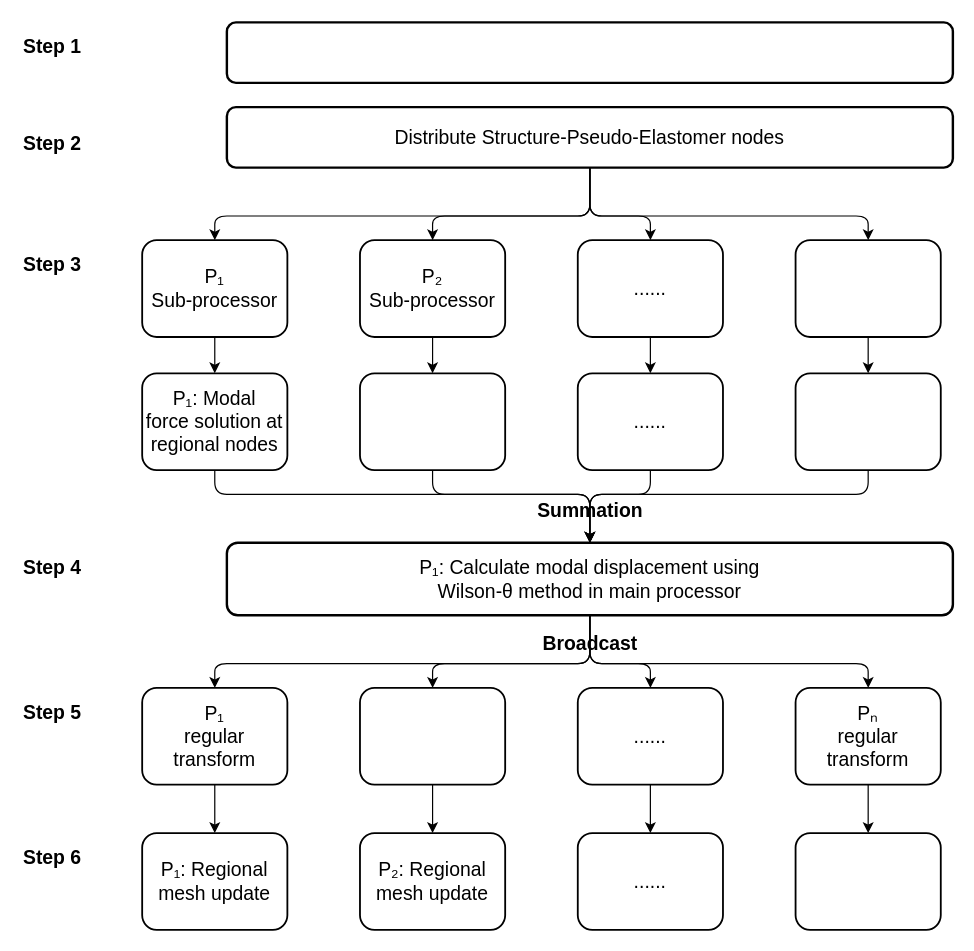
The diagram is 974 pixels wide and 951 high, and some of its shapes have lost their labels. The shapes that lost their labels are listed below. From the top down, each one's box as (x1, y1, x2, y2) in pixels, then its label:
(225, 21, 953, 83): Get frequency and modal shape vector
(794, 239, 941, 337): Pₙ Sub-processor
(359, 372, 506, 470): P₂: Modal force solution at regional nodes
(794, 372, 941, 470): Pₙ: Modal force solution at regional nodes
(359, 686, 506, 785): P₂ regular transform
(794, 832, 941, 930): Pₙ: Regional mesh update
